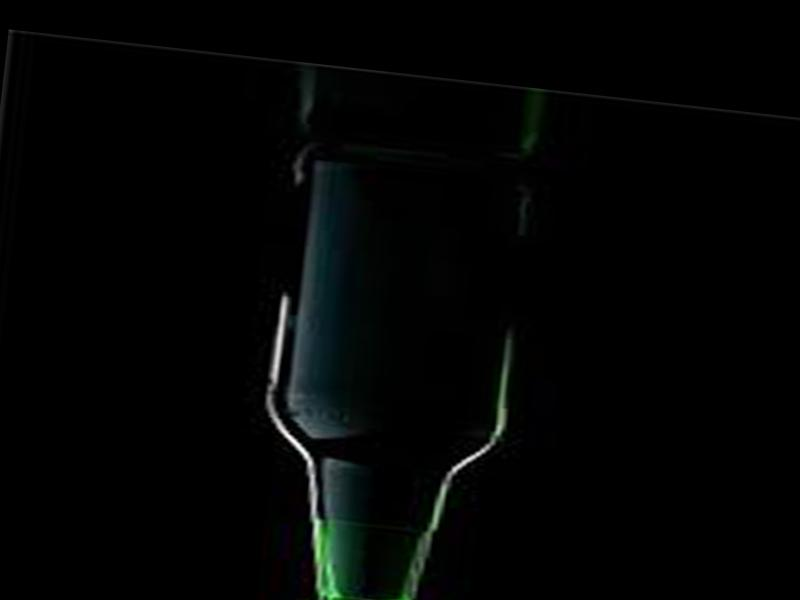Beer: (231, 145, 533, 600)
